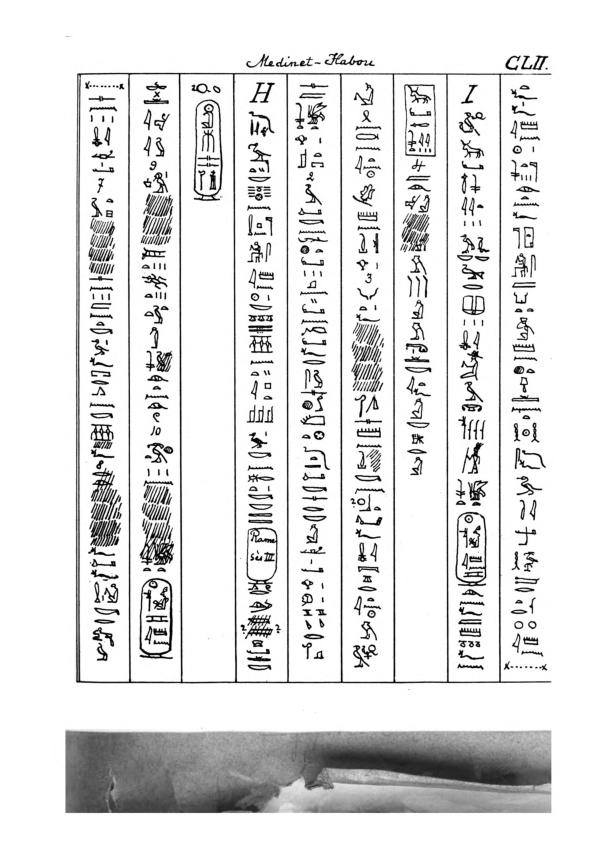circle: (190, 98, 226, 202), (137, 575, 177, 663), (452, 509, 489, 589), (243, 524, 279, 596)
